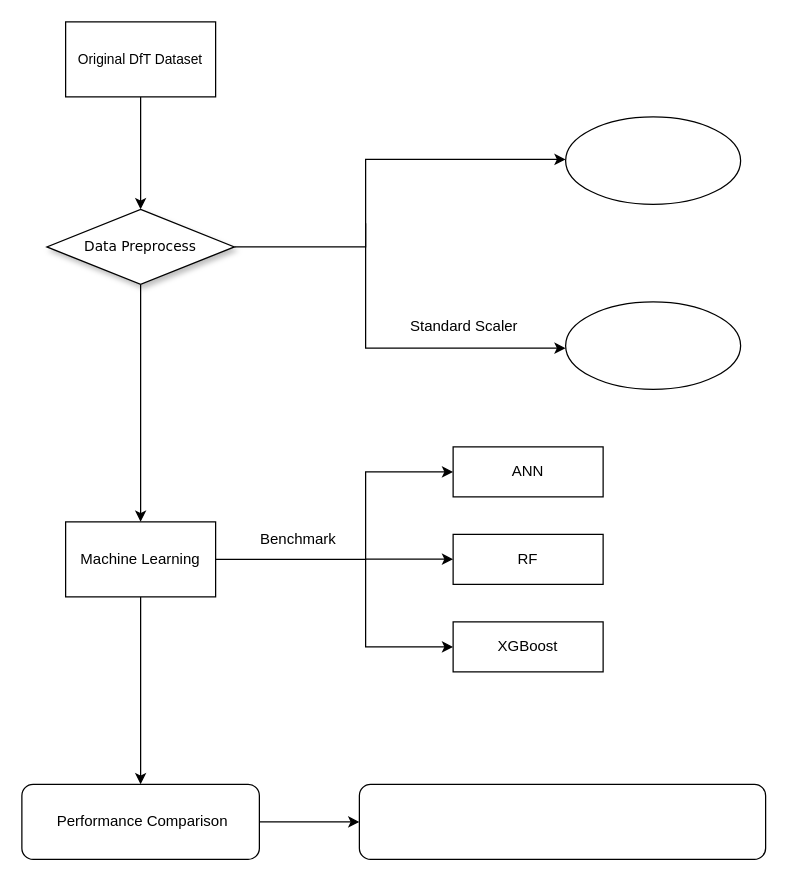
Some shapes in this 788 by 881 pixel diagram are drawn without their labels. The centre of each missing label's shape, as x and y in pixels:
"Data Cleaning" belongs at [652,160].
"Data Gathering" belongs at [652,345].
"Evaluation & Feature Importance Effect & SHAP Analysis" belongs at [562,821].
